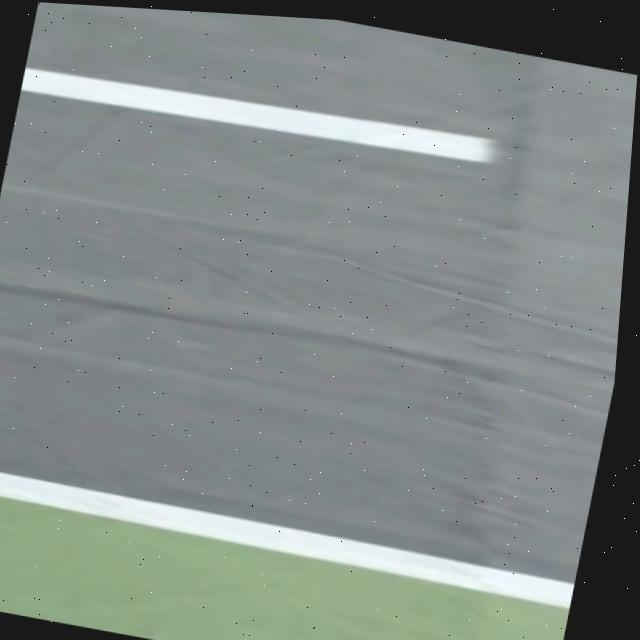center: (20, 67, 494, 161)
right: (0, 472, 574, 607)
